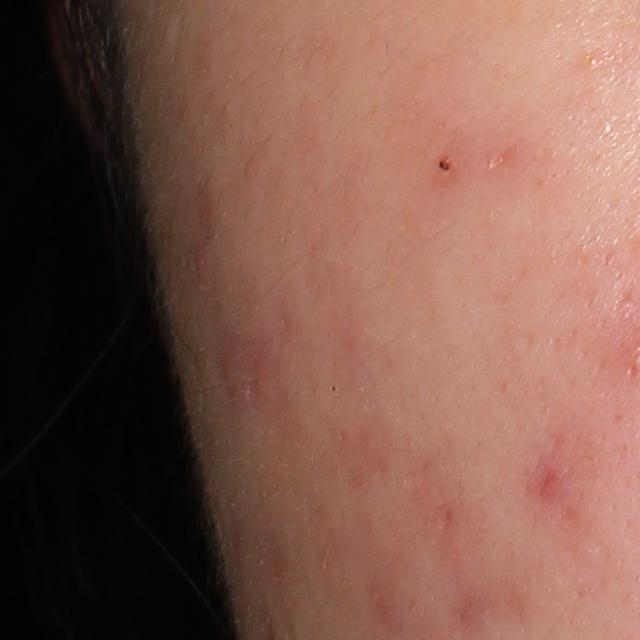comedo: (582, 47, 599, 67)
other: (438, 157, 451, 173)
